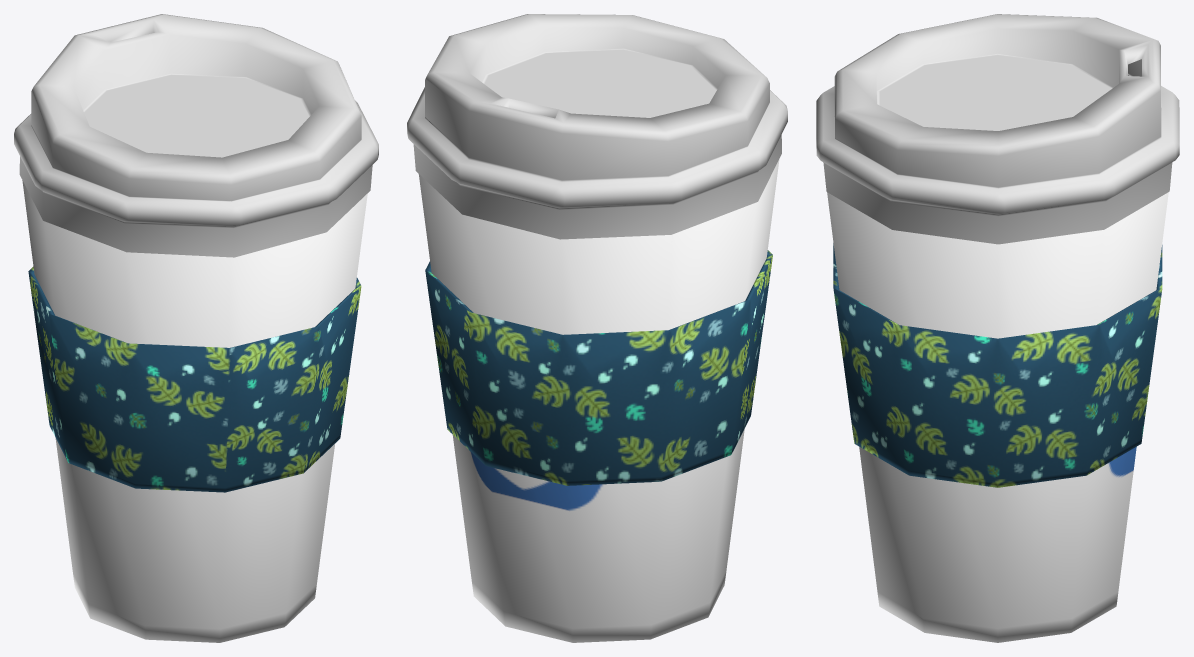
Rendered from Mini_cupofcoffee.fbx.
3 views of the same model, side by side, from view 1: azimuth 30°, elevation 25°; view 2: azimuth 150°, elevation 25°; view 3: azimuth 270°, elevation 25° (orthographic). The views are drawn at different scales.
Parts seen in each view (by area): view 1: Lid, Cupofcoffee, Sleeve; view 2: Cupofcoffee, Lid, Sleeve; view 3: Cupofcoffee, Lid, Sleeve.
Boxes of the visible parts, x1,y1,x2,y2 form: Lid: [14, 14, 378, 257]; Cupofcoffee: [22, 180, 367, 642]; Sleeve: [28, 266, 361, 492]; Cupofcoffee: [418, 159, 779, 642]; Lid: [407, 14, 787, 239]; Sleeve: [425, 250, 772, 485]; Cupofcoffee: [827, 192, 1168, 642]; Lid: [816, 14, 1179, 244]; Sleeve: [833, 243, 1162, 487].
Bounding box in the file's own units: 0.1209 × 0.1873 × 0.1164.
2 materials, 1 textured.
